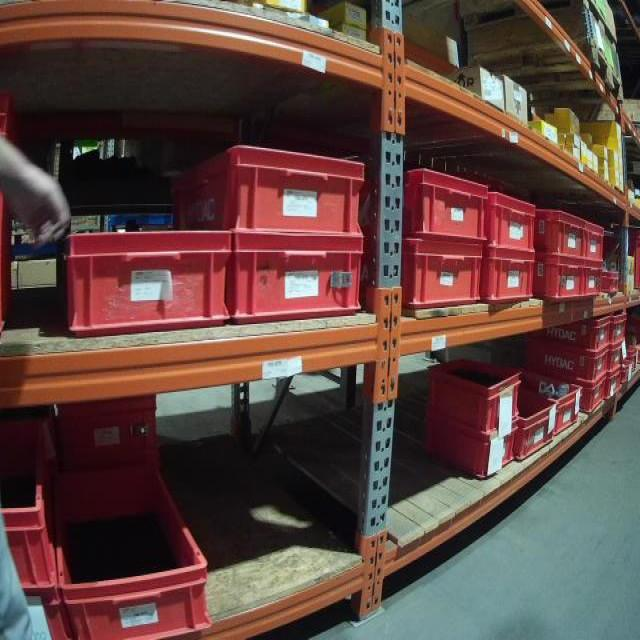pallet: (454, 38, 631, 117), (453, 6, 634, 46)
small_load_carrier: (59, 455, 213, 637), (66, 230, 235, 338), (166, 143, 366, 231), (232, 233, 364, 323), (362, 233, 489, 304), (370, 166, 485, 240), (422, 352, 523, 429), (0, 474, 55, 603), (422, 411, 513, 484), (66, 394, 160, 455), (483, 236, 535, 309), (529, 313, 613, 356), (478, 194, 541, 251), (526, 373, 582, 433), (530, 340, 607, 383), (32, 552, 70, 639), (528, 211, 590, 260), (520, 389, 556, 465), (532, 376, 608, 412), (535, 252, 584, 307), (608, 226, 638, 302), (11, 412, 56, 455), (579, 220, 607, 264), (582, 256, 608, 294), (611, 309, 632, 344), (609, 356, 626, 397), (610, 333, 627, 369), (605, 263, 619, 300), (626, 337, 638, 378)
